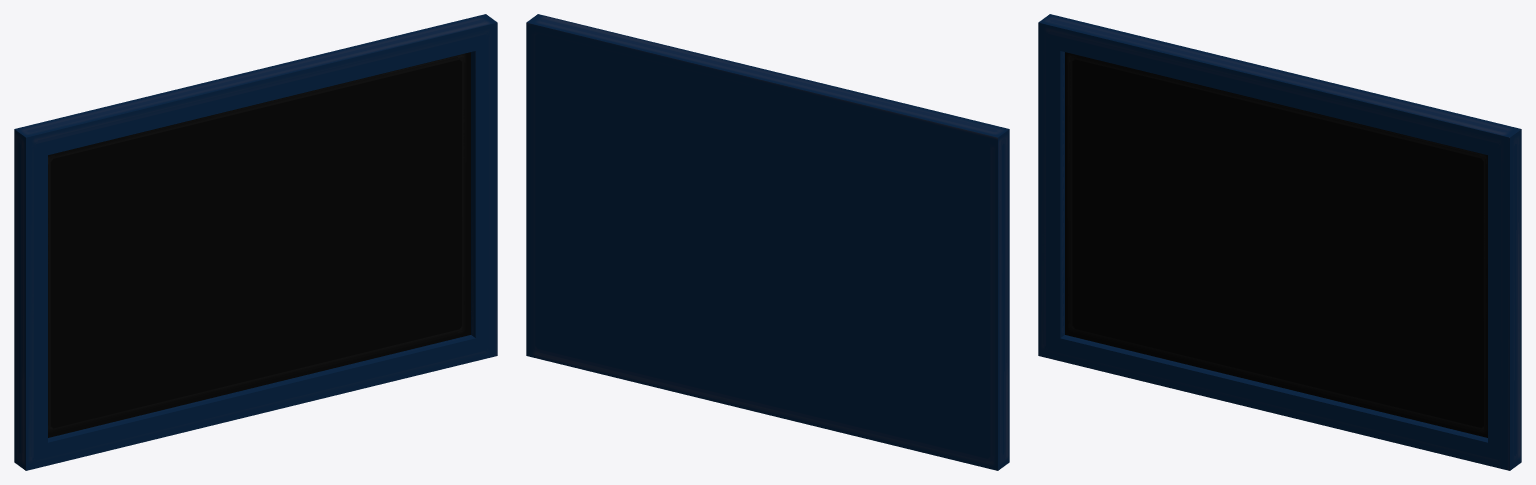
The model's file is JBayer_TVScreen_NoText.fbx.
3 renders of one model, left to right at view 1: azimuth 30°, elevation 25°; view 2: azimuth 150°, elevation 25°; view 3: azimuth 330°, elevation 25°, orthographic.
Visible parts, largest first — view 1: TV; view 2: TV; view 3: TV.
Boxes of the visible parts, <box> form: TV: <box>14,14,497,470</box>; TV: <box>526,14,1009,470</box>; TV: <box>1038,14,1521,470</box>.
Bounding box in the file's own units: 402 × 272 × 17.38.
Materials: 1 (1 with a texture image).
